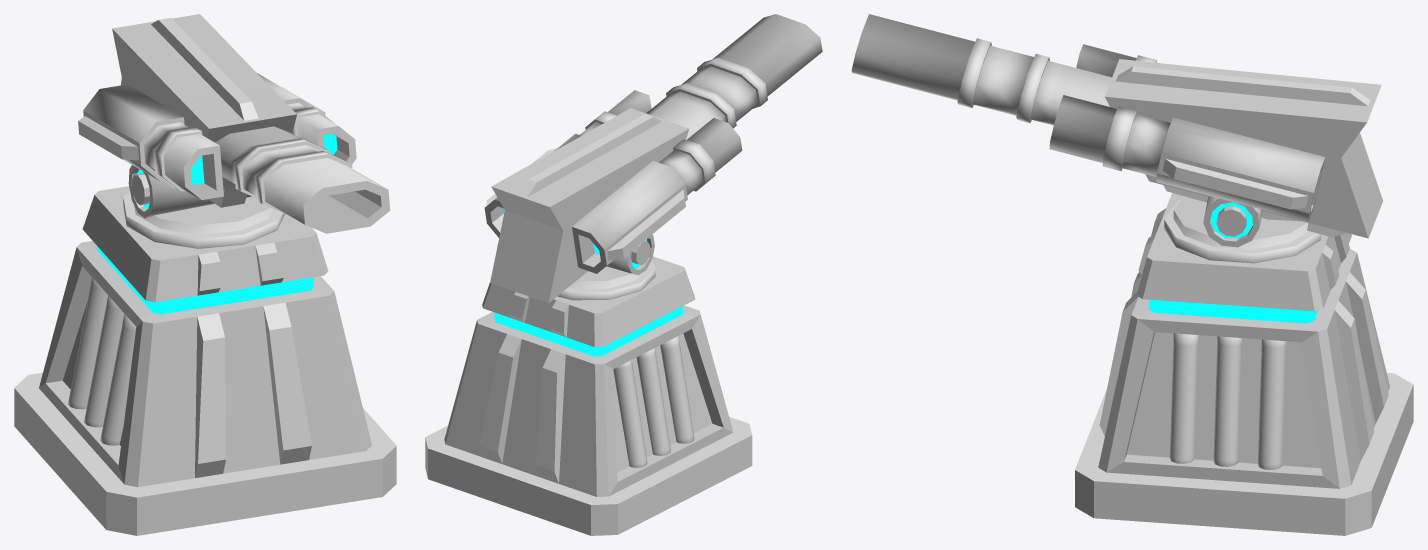
The model's file is 3DModel_Skyforger_Cannon.fbx.
3 renders of one model, left to right at view 1: azimuth 30°, elevation 25°; view 2: azimuth 150°, elevation 25°; view 3: azimuth 270°, elevation 25°, orthographic. The views are drawn at different scales.
Visible parts, largest first — view 1: SF Cannon, SF Canon Barrel; view 2: SF Cannon, SF Canon Barrel; view 3: SF Cannon, SF Canon Barrel.
Part boxes in pixels (left/top/right/bottom): SF Cannon: left=14, top=186, right=396, bottom=535; SF Canon Barrel: left=78, top=14, right=390, bottom=233; SF Cannon: left=425, top=256, right=752, bottom=535; SF Canon Barrel: left=484, top=14, right=822, bottom=303; SF Cannon: left=1075, top=193, right=1413, bottom=535; SF Canon Barrel: left=851, top=14, right=1382, bottom=247.
Bounding box in the file's own units: 51.06 × 69 × 84.76.
